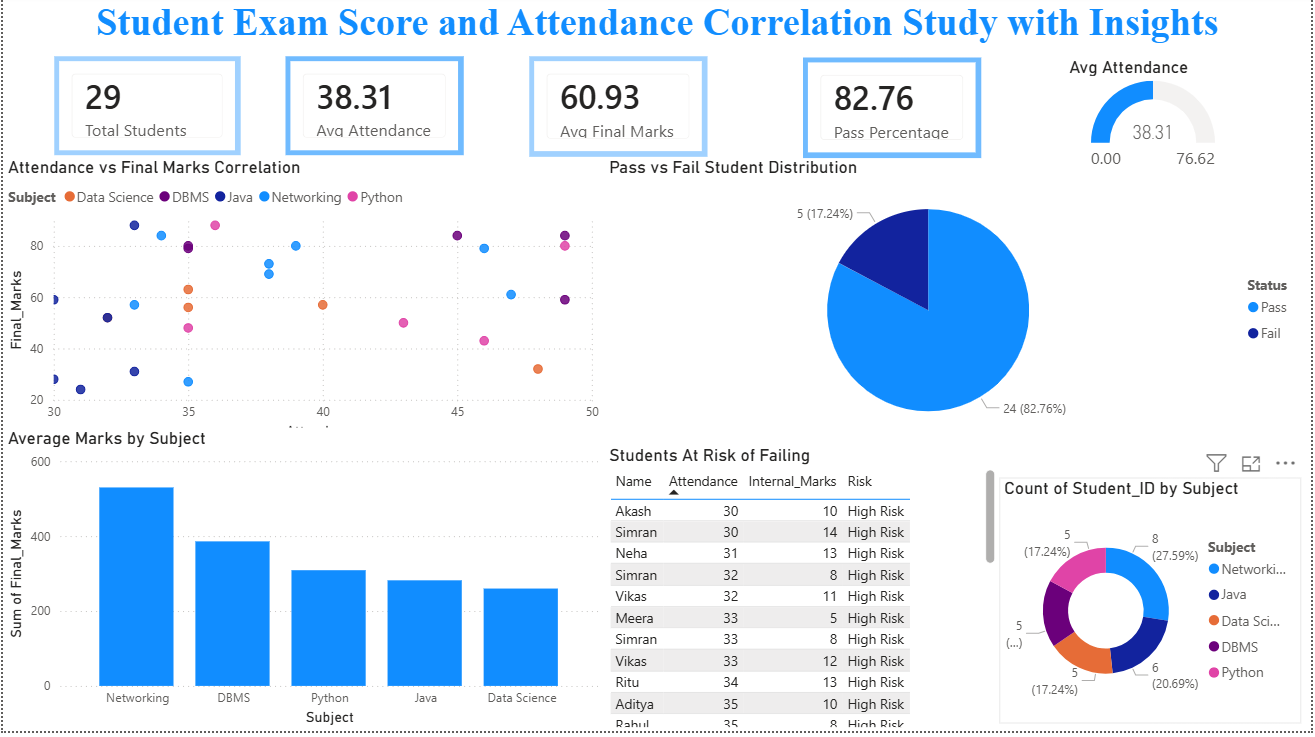

The page's visual inventory and layout, read from the dashboard file:
{"tool":"powerbi","page":{"name":"Executive Overview Page","canvas":[1280,720],"ordinal":0},"visuals":[{"type":"scatterChart","title":"Attendance vs Final Marks Correlation","fields":{"X":["student_data.Attendance"],"Y":["student_data.Final_Marks"],"Series":["student_data.Subject"]},"box":[0,157.8,588.2,282],"z":0},{"type":"clusteredColumnChart","title":"Average Marks by Subject","fields":{"Category":["student_data.Subject"],"Y":["Sum(student_data.Final_Marks)"]},"box":[0,423.6,588.2,296.8],"z":1000},{"type":"pieChart","title":"Pass vs Fail Student Distribution","fields":{"Category":["student_data.Status"],"Y":["CountNonNull(student_data.Status)"]},"box":[588.2,156.5,692.1,283.3],"z":2000},{"type":"tableEx","title":"Students At Risk of Failing","fields":{"Values":["student_data.Name","student_data.Attendance","student_data.Internal_Marks","student_data.Risk"]},"box":[588.2,439.8,387.2,280.6],"z":3000},{"type":"actionButton","box":[0,0,100,40],"z":4000},{"type":"textbox","box":[0,0,1280.3,60.7],"z":5000},{"type":"cardVisual","fields":{"Data":["student_data.Total Students"]},"box":[49.9,59.4,182.1,97.1],"z":6000},{"type":"cardVisual","fields":{"Data":["student_data.Avg Attendance"]},"box":[276.6,59.4,174,97.1],"z":7000},{"type":"cardVisual","fields":{"Data":["student_data.Avg Final Marks"]},"box":[515.3,59.4,174,98.5],"z":8000},{"type":"cardVisual","fields":{"Data":["student_data.Pass Percentage"]},"box":[782.5,60.7,174,98.5],"z":9000},{"type":"gauge","fields":{"Y":["student_data.Avg Attendance"]},"box":[1038.8,59.4,174,121.4],"z":10000},{"type":"donutChart","fields":{"Category":["student_data.Subject"],"Y":["CountNonNull(student_data.Student_ID)"]},"box":[975,471.7,295,241.7],"z":11000}]}

Visuals, with their boxes in screenshot pixels (x1, y1, x2, y2), scaled from the page's 1280x720 canvas onto the 1315x737 screenshot:
"Attendance vs Final Marks Correlation" scatterChart: box(0, 162, 604, 450)
"Average Marks by Subject" clusteredColumnChart: box(0, 434, 604, 736)
"Pass vs Fail Student Distribution" pieChart: box(604, 160, 1314, 450)
"Students At Risk of Failing" tableEx: box(604, 450, 1002, 736)
actionButton: box(0, 0, 103, 41)
textbox: box(0, 0, 1314, 62)
cardVisual - student_data.Total Students: box(51, 61, 238, 160)
cardVisual - student_data.Avg Attendance: box(284, 61, 463, 160)
cardVisual - student_data.Avg Final Marks: box(529, 61, 708, 162)
cardVisual - student_data.Pass Percentage: box(804, 62, 983, 163)
gauge - student_data.Avg Attendance: box(1067, 61, 1246, 185)
donutChart - student_data.Subject x CountNonNull(student_data.Student_ID): box(1002, 483, 1305, 730)
